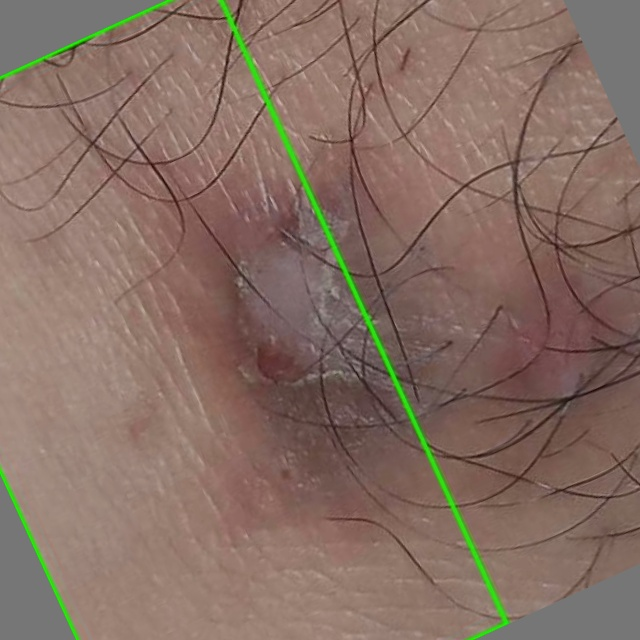Eczema: (0, 0, 506, 639)
